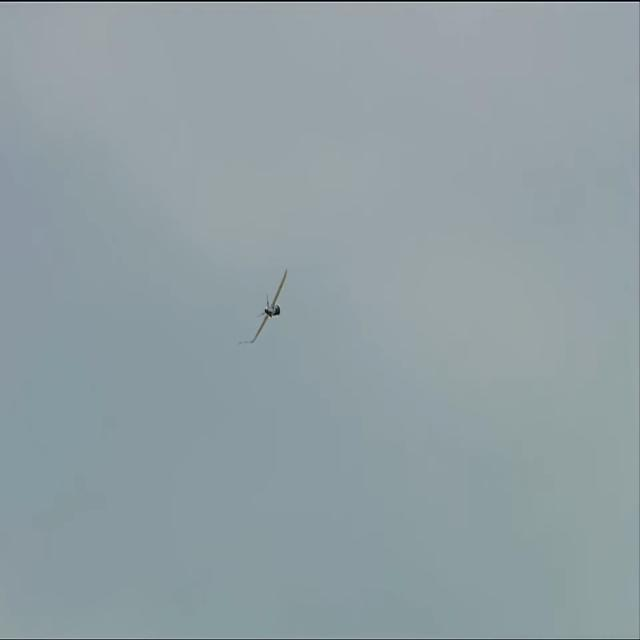iha: (250, 302, 289, 308)
